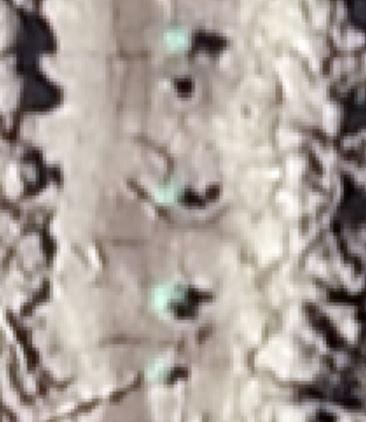cotton: (164, 25, 189, 51), (154, 284, 186, 303), (156, 184, 182, 201), (152, 364, 170, 381)
